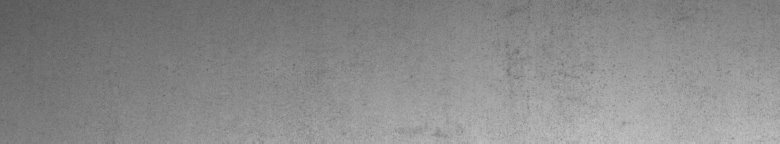ib: (507, 9, 689, 126)
